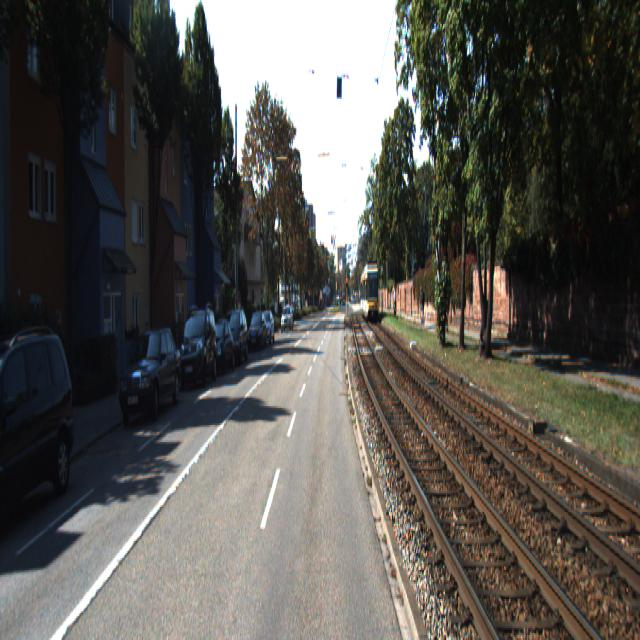Car: (0, 323, 82, 551), (118, 322, 184, 426), (178, 302, 218, 391), (220, 306, 248, 368), (205, 317, 233, 376), (360, 262, 380, 322), (248, 310, 268, 352)
